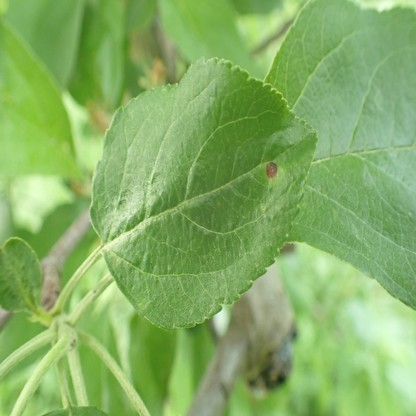frogeye_leaf_spot: (266, 162, 277, 178)
